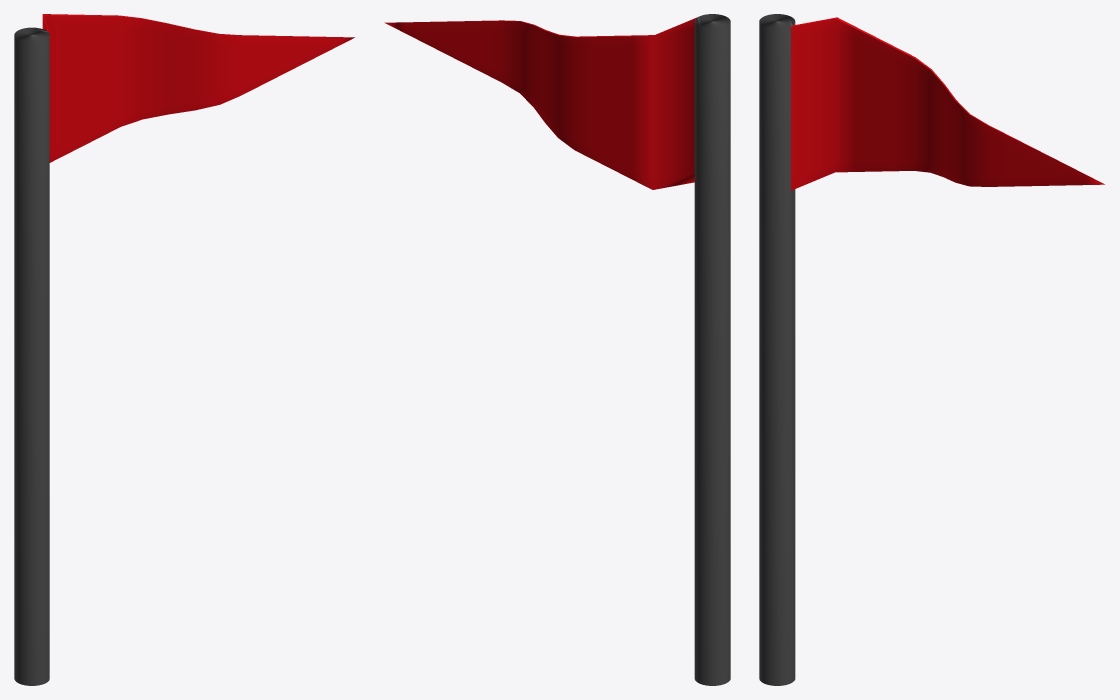
Rendered from Flag4(T).fbx.
The picture shows the model from 3 angles, left to right: view 1: azimuth 30°, elevation 25°; view 2: azimuth 150°, elevation 25°; view 3: azimuth 330°, elevation 25°; orthographic projection. The views are drawn at different scales.
Visible parts, largest first — view 1: Flag4; view 2: Flag4; view 3: Flag4.
Part boxes in pixels (bbox=[...]): Flag4: bbox=[14, 14, 354, 685]; Flag4: bbox=[384, 14, 730, 685]; Flag4: bbox=[759, 14, 1104, 685].
Bounding box in the file's own units: 110 × 200 × 18.6.
